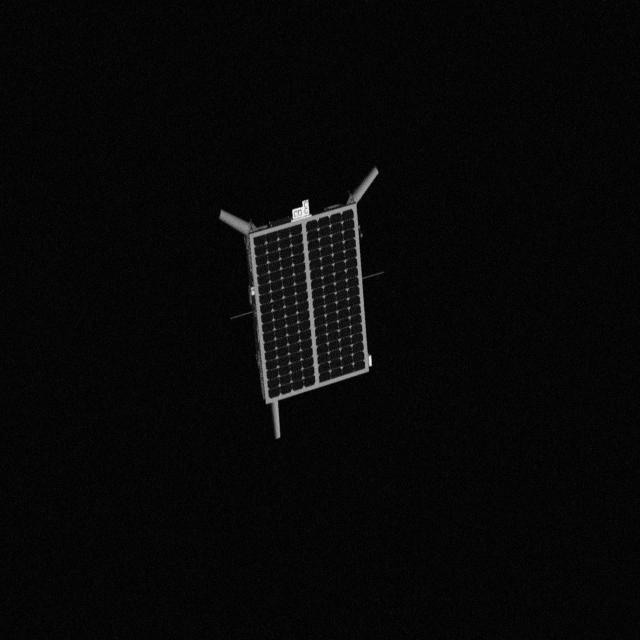satellite: (216, 156, 396, 448)
